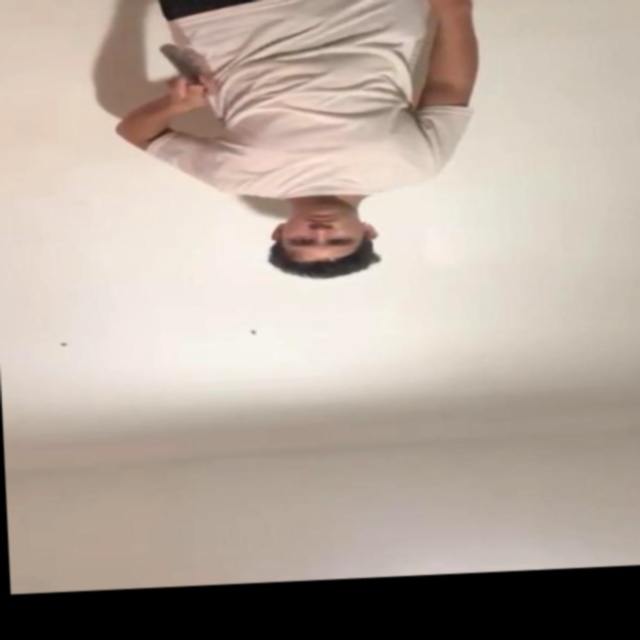Sharp-Object: (159, 40, 200, 76)
